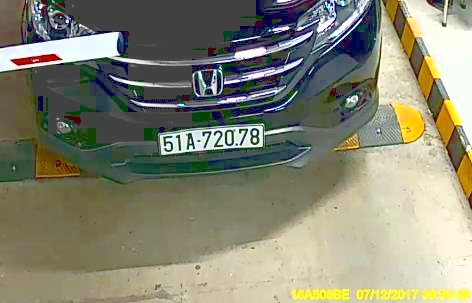plate: (156, 120, 265, 153)
